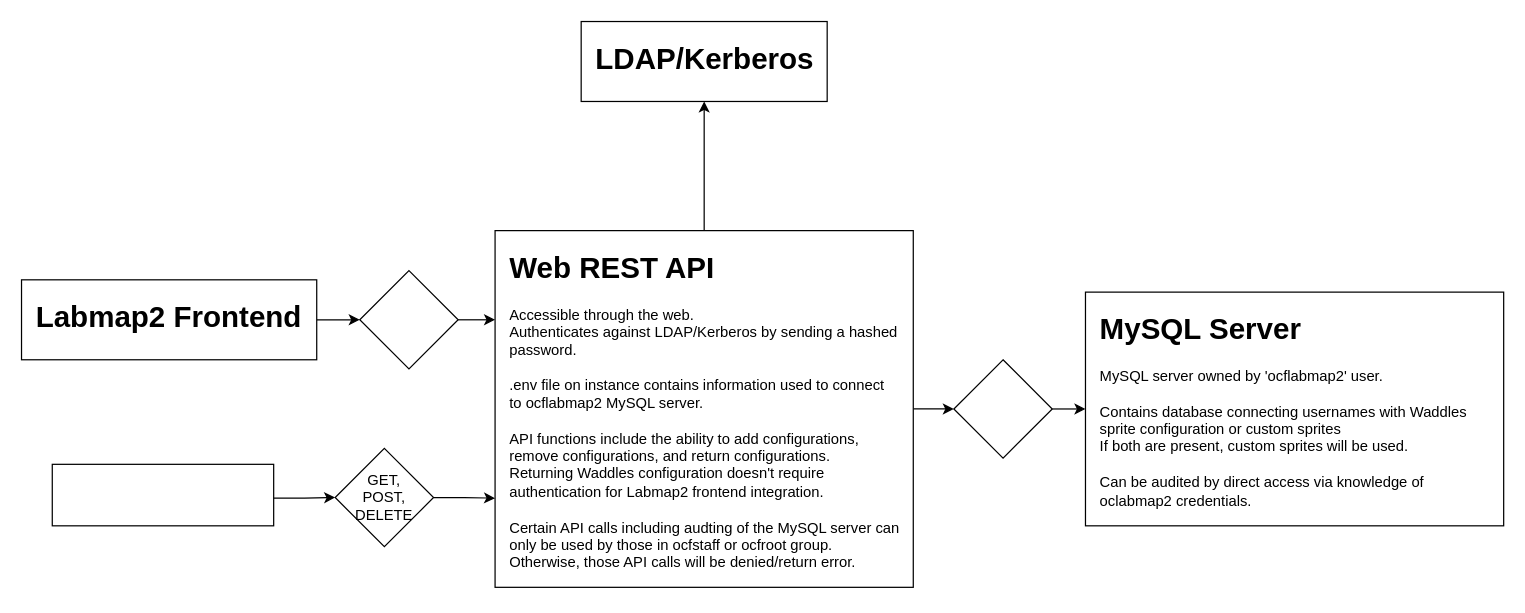
Some shapes in this 1525 by 613 pixel diagram are drawn without their labels. Each missing label, with the centre of its shape:
GET: point (408, 319)
ocflabmap2 creds: point (1002, 408)
Verified Users: point (162, 494)
